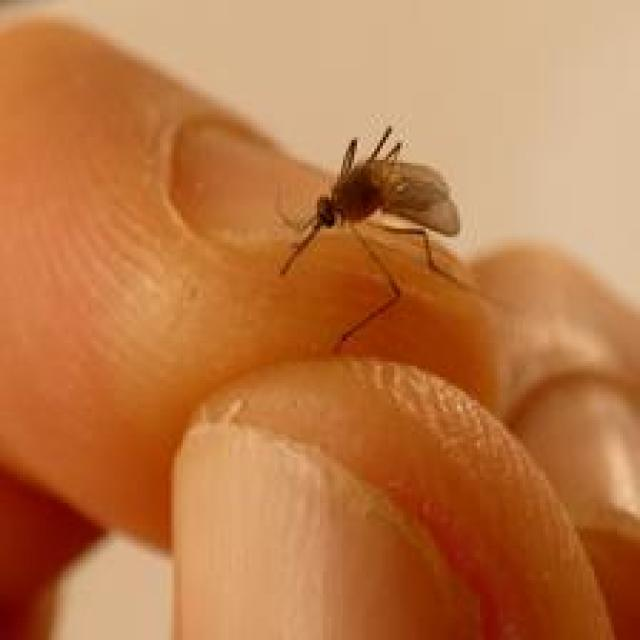Culex: (274, 123, 469, 351)
